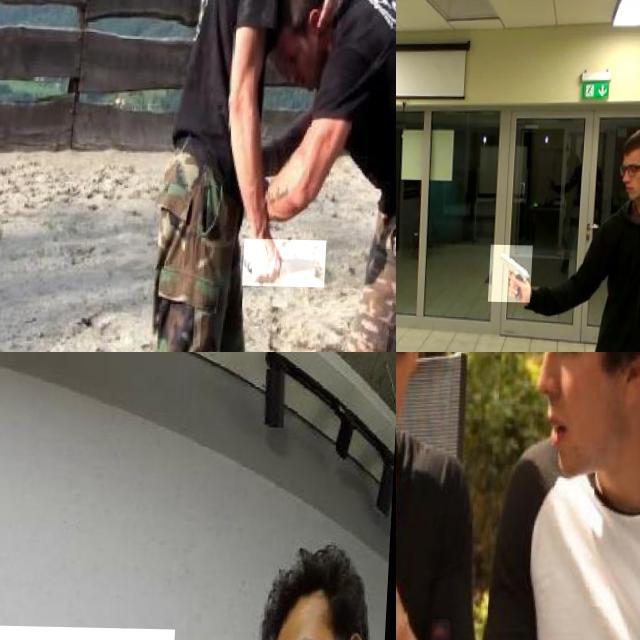-: (248, 237, 332, 286)
gun-knife-thesis - v11 Yolov5 augmented: (492, 243, 536, 301)
